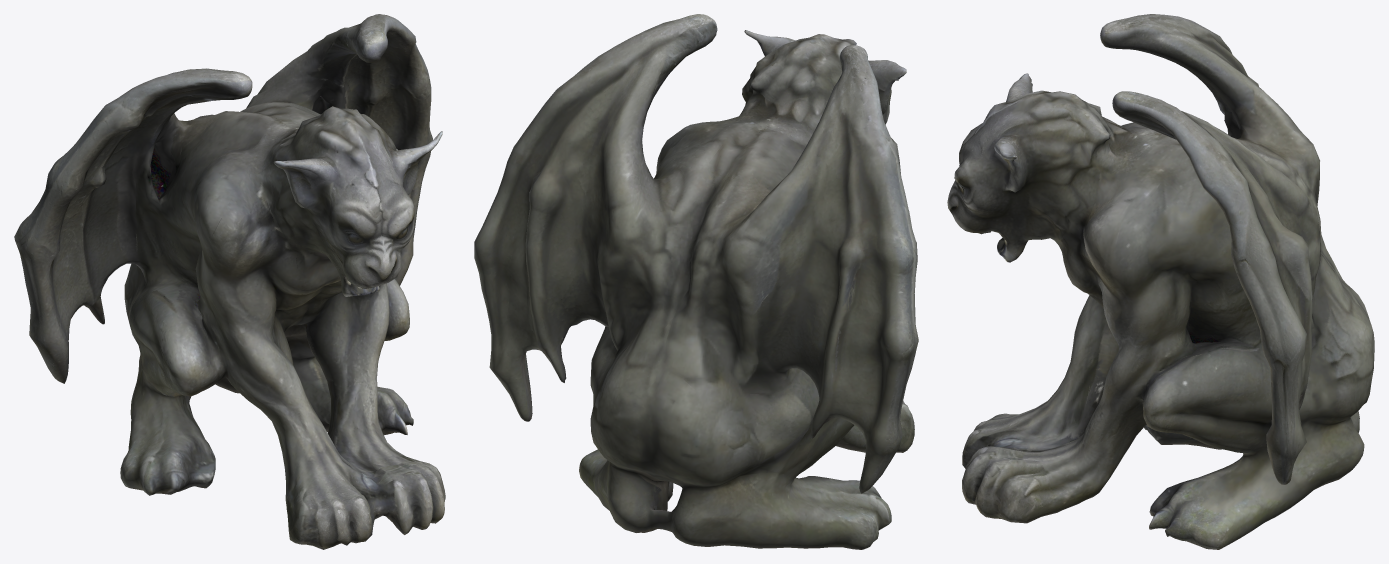
The model's file is Gargoyle_Sentinel_0810171843_texture.fbx.
3 renders of one model, left to right at view 1: azimuth 30°, elevation 25°; view 2: azimuth 150°, elevation 25°; view 3: azimuth 270°, elevation 25°, orthographic. The views are drawn at different scales.
Parts seen in each view (by area): view 1: Mesh_0; view 2: Mesh_0; view 3: Mesh_0.
Boxes of the visible parts, box(x1,y1,x2,y2) form: Mesh_0: box(14, 14, 445, 549); Mesh_0: box(474, 14, 918, 549); Mesh_0: box(947, 14, 1374, 549).
Bounding box in the file's own units: 199 × 200 × 180.
1 material, 1 textured.
